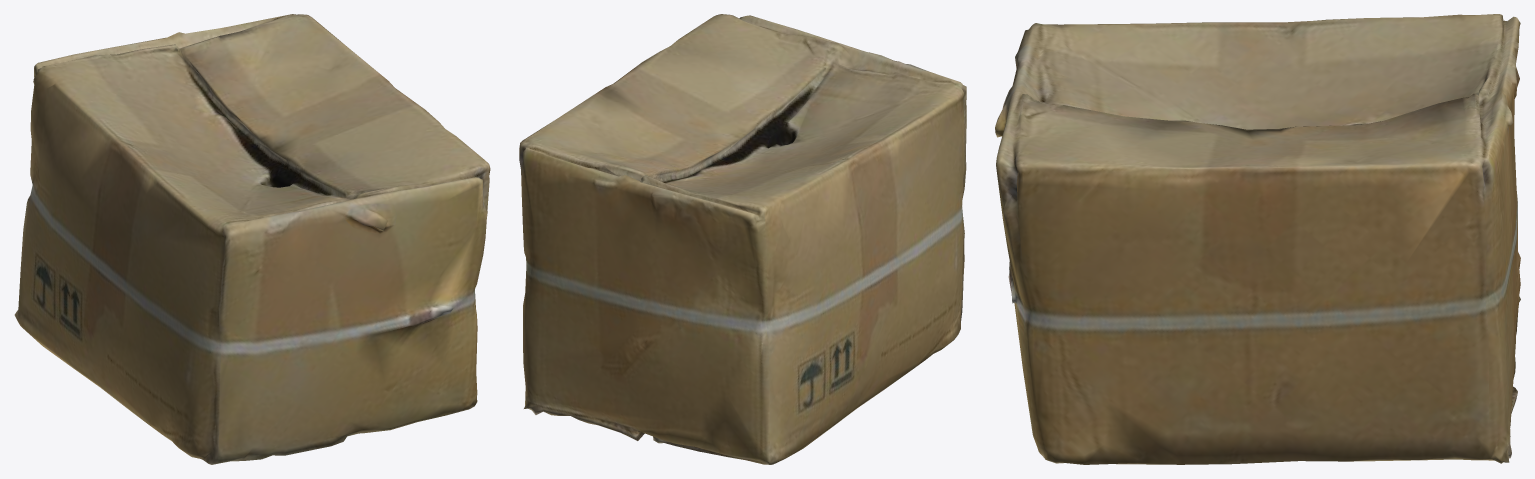
The model's file is cardboard_box_01.glb.
The picture shows the model from 3 angles, left to right: view 1: azimuth 30°, elevation 25°; view 2: azimuth 150°, elevation 25°; view 3: azimuth 270°, elevation 25°; orthographic projection. The views are drawn at different scales.
Parts seen in each view (by area): view 1: cardboard_box_01; view 2: cardboard_box_01; view 3: cardboard_box_01.
Part boxes in pixels (bbox=[...]): cardboard_box_01: bbox=[14, 14, 490, 464]; cardboard_box_01: bbox=[519, 14, 966, 464]; cardboard_box_01: bbox=[995, 14, 1520, 464].
Size of the model in its own units: 0.3868 by 0.3418 by 0.5159.
Materials: 1 (1 with a texture image).
